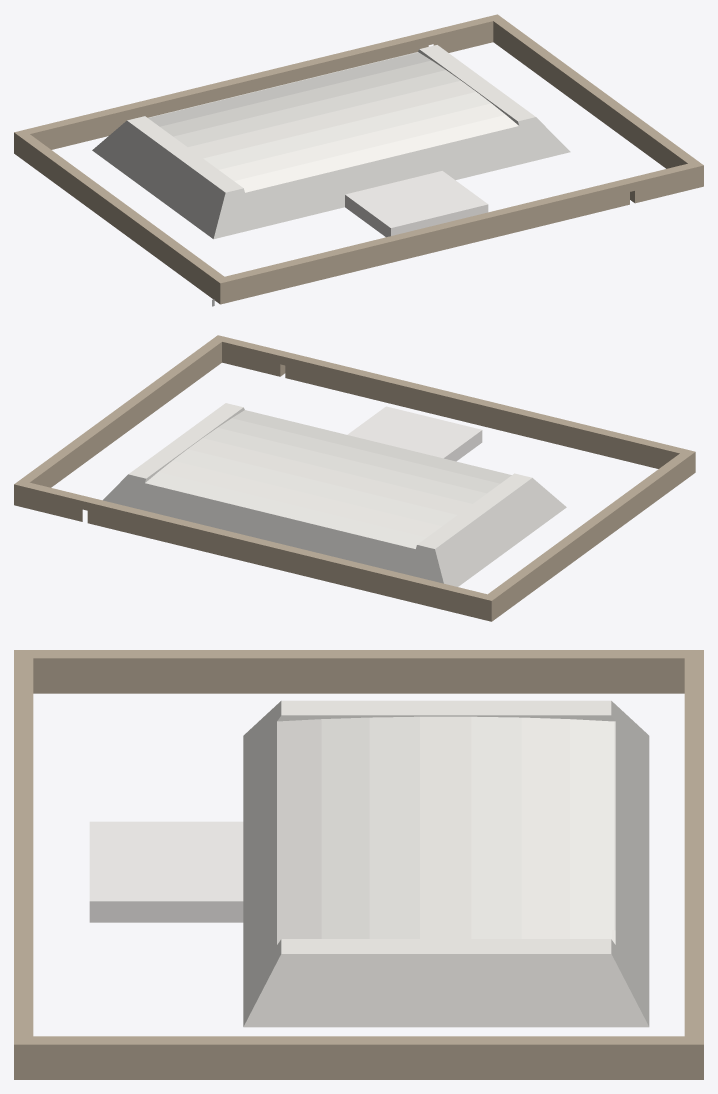
File: Ninetjer_v2.glb
3 renders of one model, top to bottom at view 1: azimuth 30°, elevation 25°; view 2: azimuth 150°, elevation 25°; view 3: azimuth 270°, elevation 25°, orthographic. The views are drawn at different scales.
Parts seen in each view (by area): view 1: Mesh1 Component_1_1 Model, Mesh3 Model, Mesh2 Model; view 2: Mesh1 Component_1_1 Model, Mesh3 Model, Mesh2 Model; view 3: Mesh1 Component_1_1 Model, Mesh3 Model, Mesh2 Model.
Boxes of the visible parts, bbox=[...] form: Mesh1 Component_1_1 Model: bbox=[92, 45, 570, 239]; Mesh3 Model: bbox=[14, 14, 703, 304]; Mesh2 Model: bbox=[345, 171, 488, 237]; Mesh1 Component_1_1 Model: bbox=[103, 403, 566, 586]; Mesh3 Model: bbox=[14, 335, 695, 621]; Mesh2 Model: bbox=[347, 406, 482, 461]; Mesh1 Component_1_1 Model: bbox=[243, 700, 649, 1027]; Mesh3 Model: bbox=[14, 650, 703, 1079]; Mesh2 Model: bbox=[89, 821, 243, 922].
Size of the model in its own units: 122 by 7.68 by 88.4.
